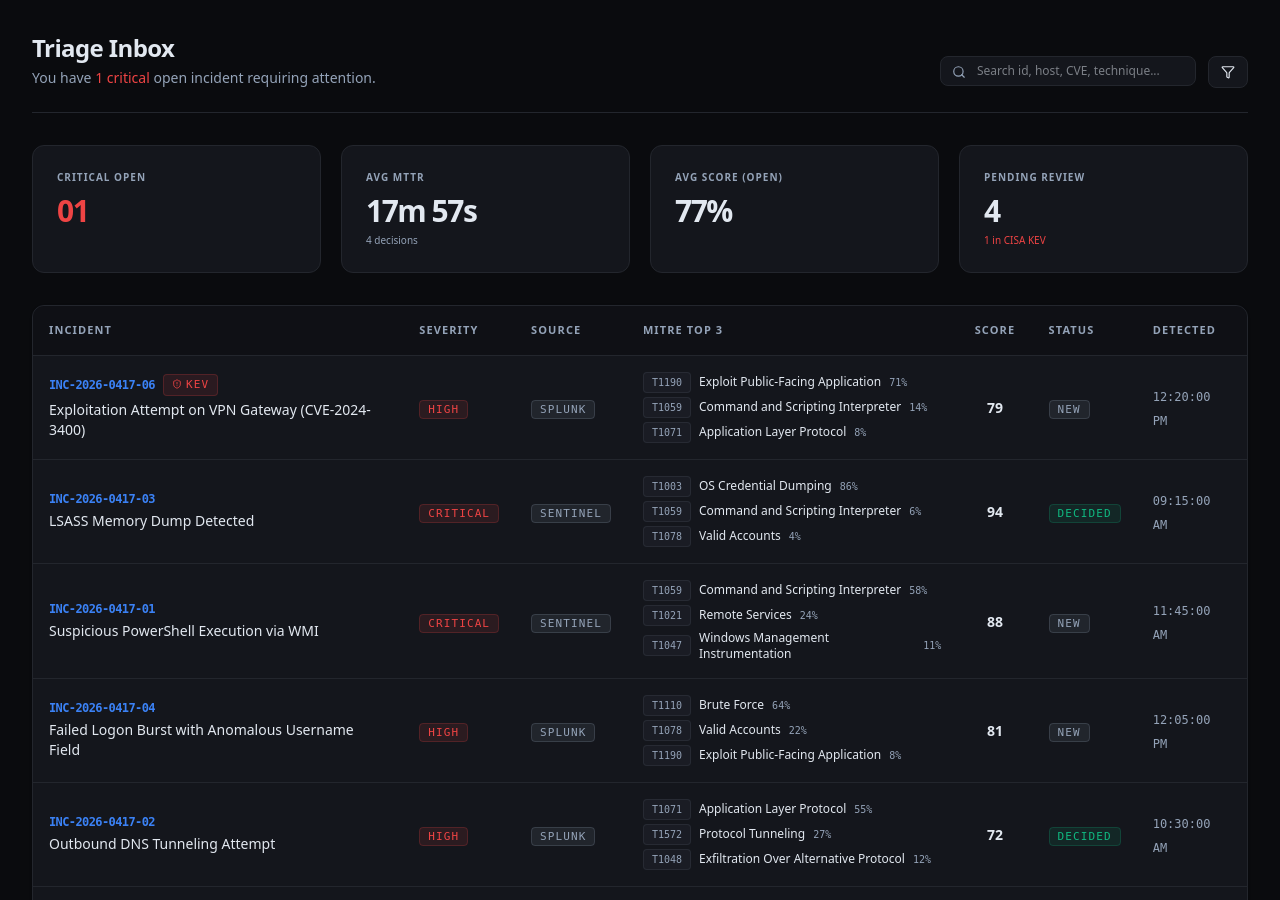
triage inbox search and filter › filters by severity
Click the button named "Filter by severity": (1228, 72) [1208,56,1248,88]
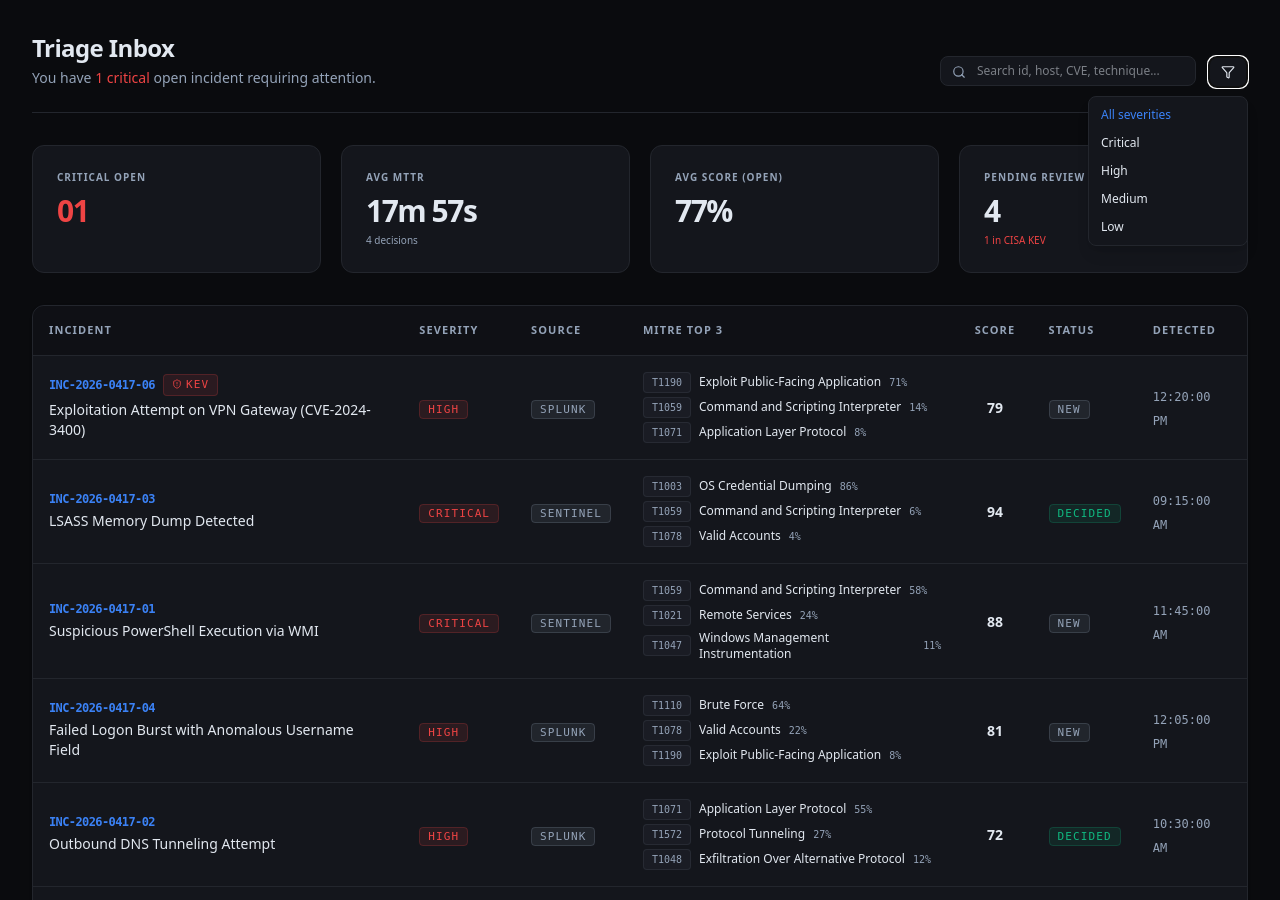
Click the button "Critical": (1168, 143) [1089,129,1247,157]
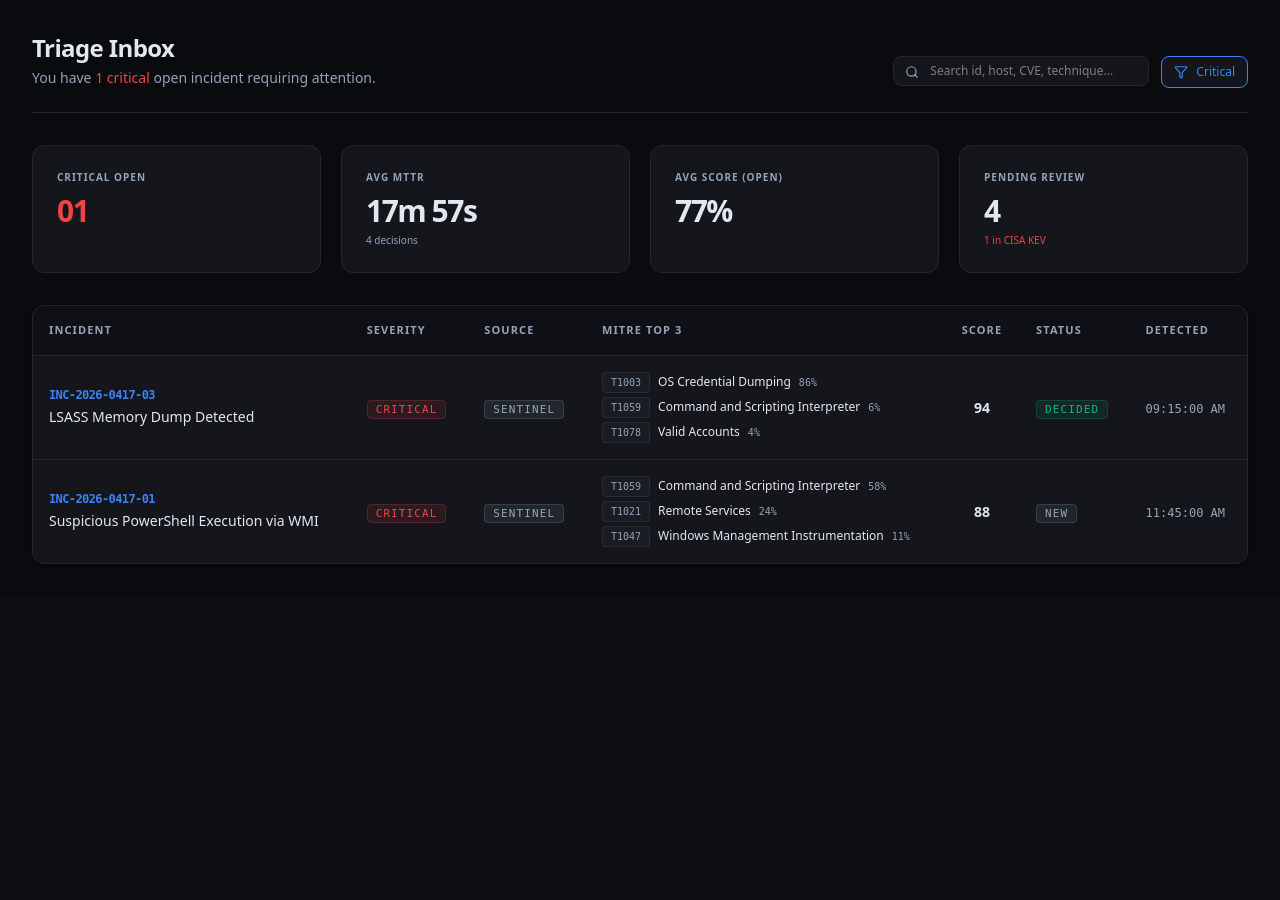
Expected: the text "INC-2026-0417-02" is gone
Expected: the text "INC-2026-0417-04" is gone
Expected: the text "INC-2026-0417-06" is gone
